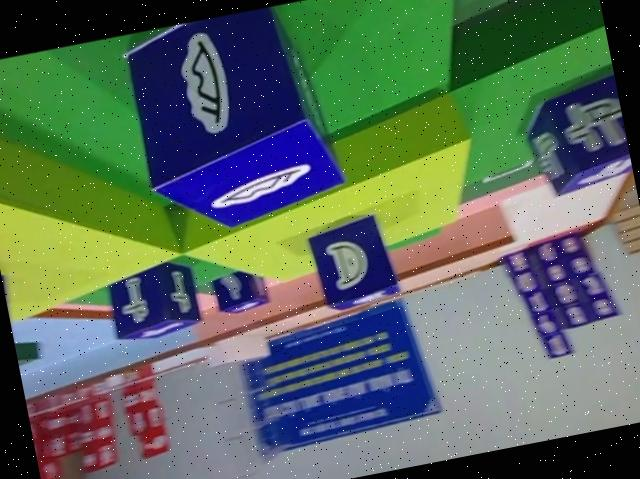R2 Real Blue: (120, 0, 356, 249), (514, 63, 635, 198), (303, 207, 403, 312), (101, 253, 204, 344), (212, 262, 274, 315)
